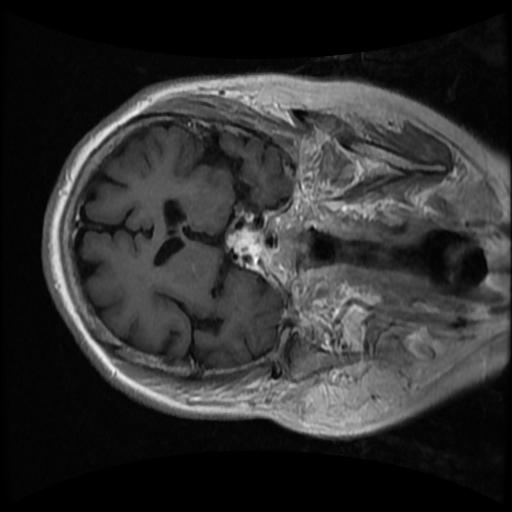pituitary tumour: (226, 229, 262, 255)
